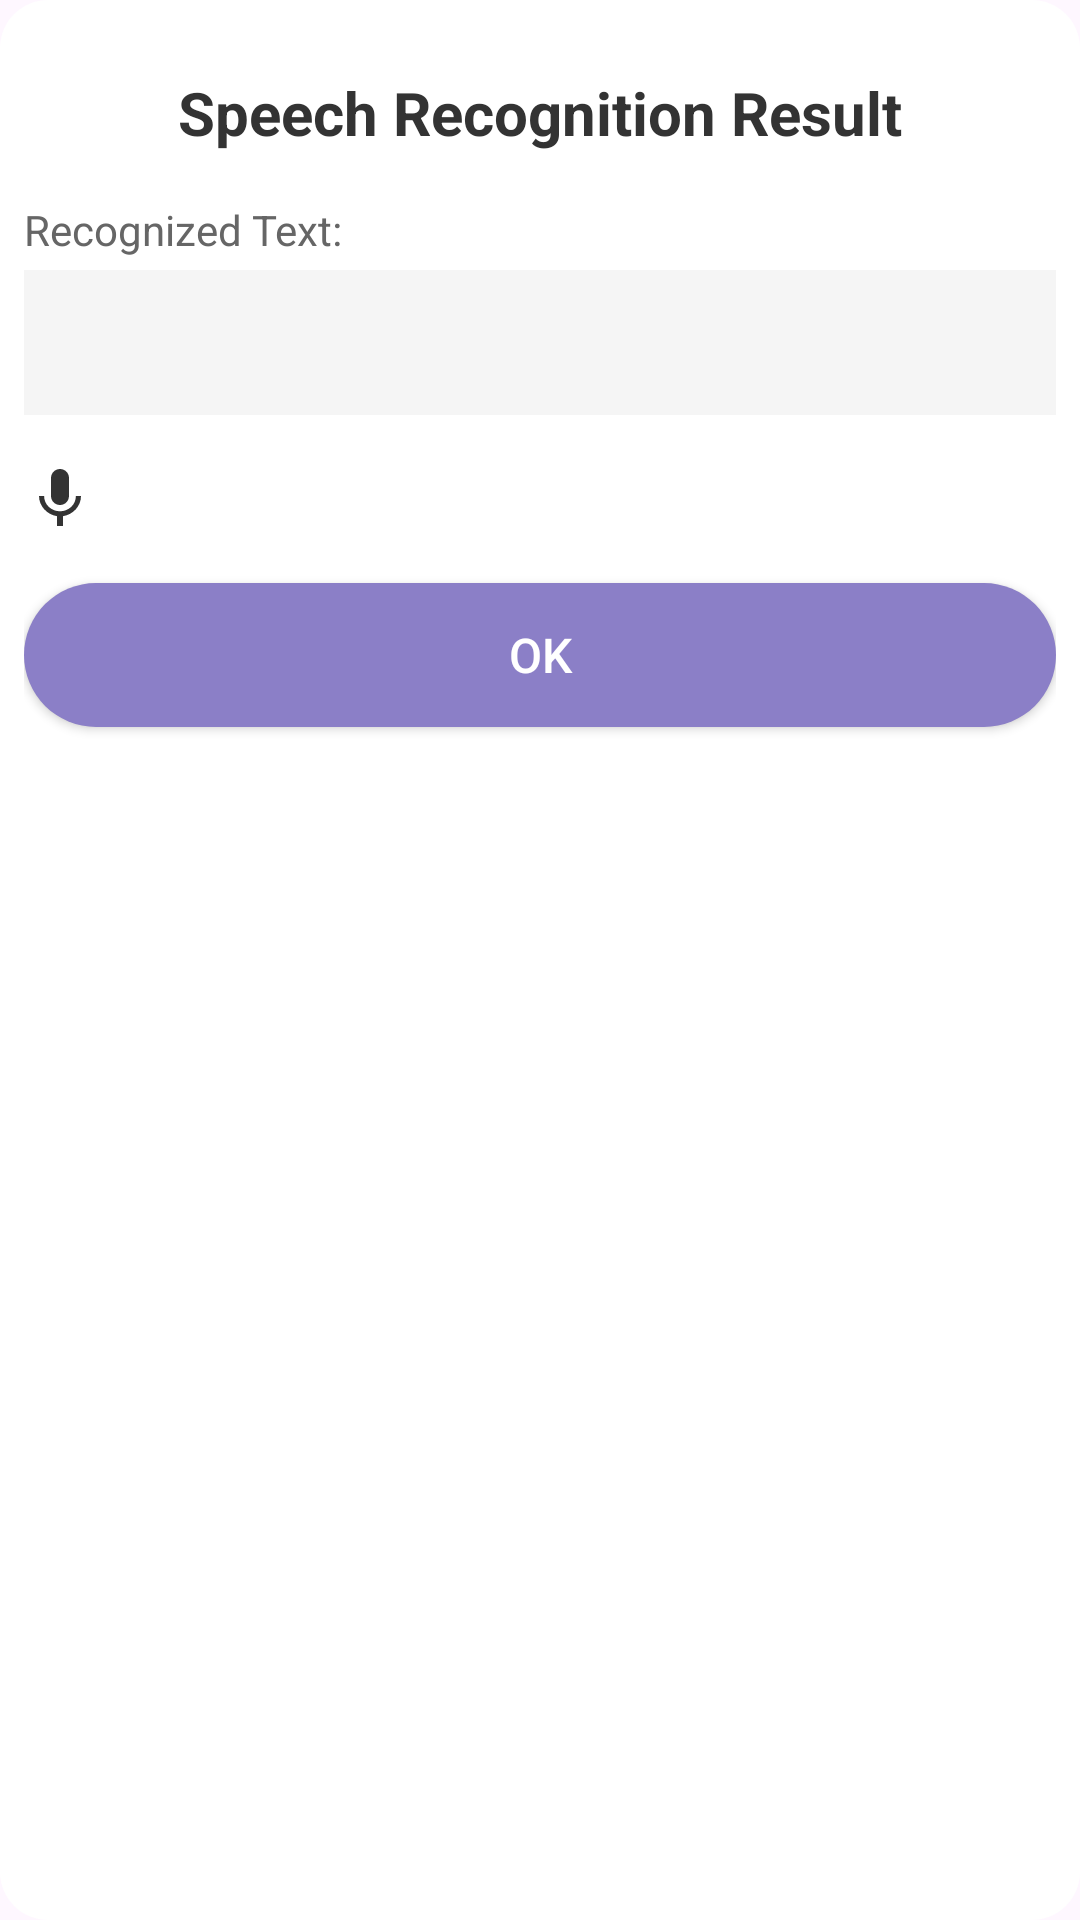

Point at icon controls on the screen. Image size 1080*1920, points as (x,y).
mic: (60,497)
